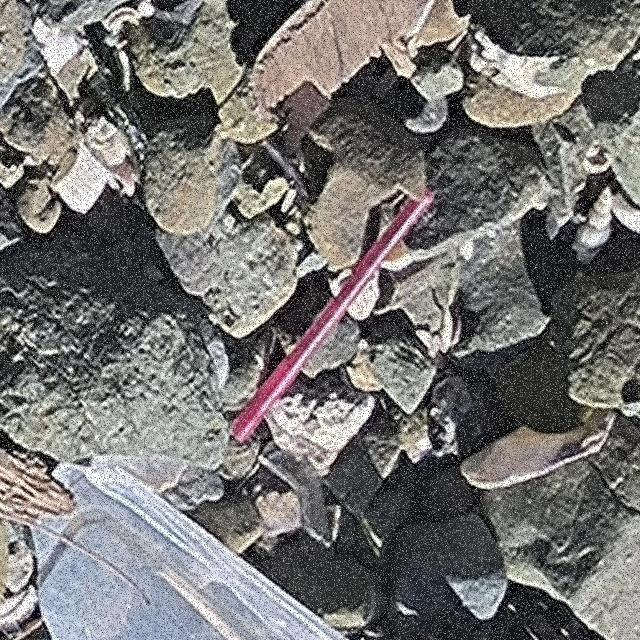plastic_waste: (229, 187, 436, 446)
